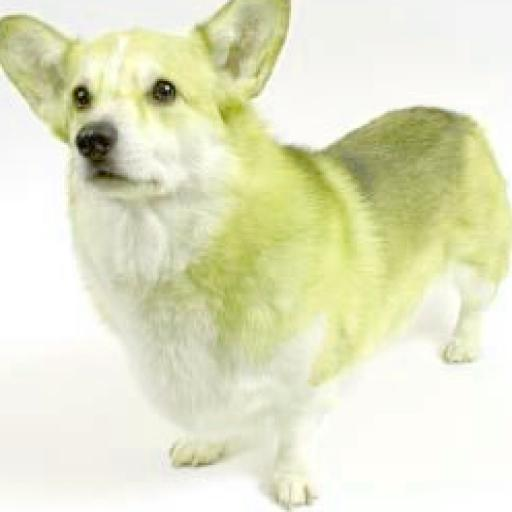dog_face: (0, 0, 299, 181)
